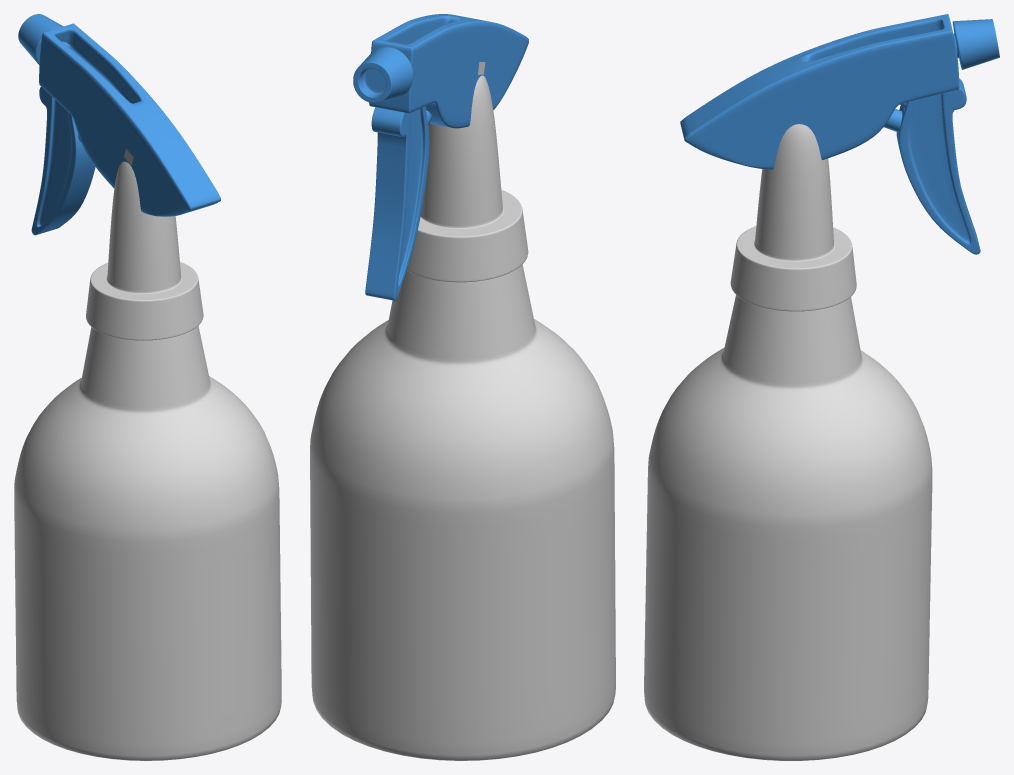
File: botol alkohol semprot.fbx
3 views of the same model, side by side, from view 1: azimuth 30°, elevation 25°; view 2: azimuth 150°, elevation 25°; view 3: azimuth 270°, elevation 25° (orthographic). The views are drawn at different scales.
Visible parts, largest first — view 1: 17282_SprayBottle_v1; view 2: 17282_SprayBottle_v1; view 3: 17282_SprayBottle_v1.
Boxes of the visible parts, left/top/right/bottom form: 17282_SprayBottle_v1: left=14, top=14, right=281, bottom=760; 17282_SprayBottle_v1: left=310, top=14, right=615, bottom=760; 17282_SprayBottle_v1: left=644, top=14, right=999, bottom=760.
Size of the model in its own units: 396 by 1036 by 495.
